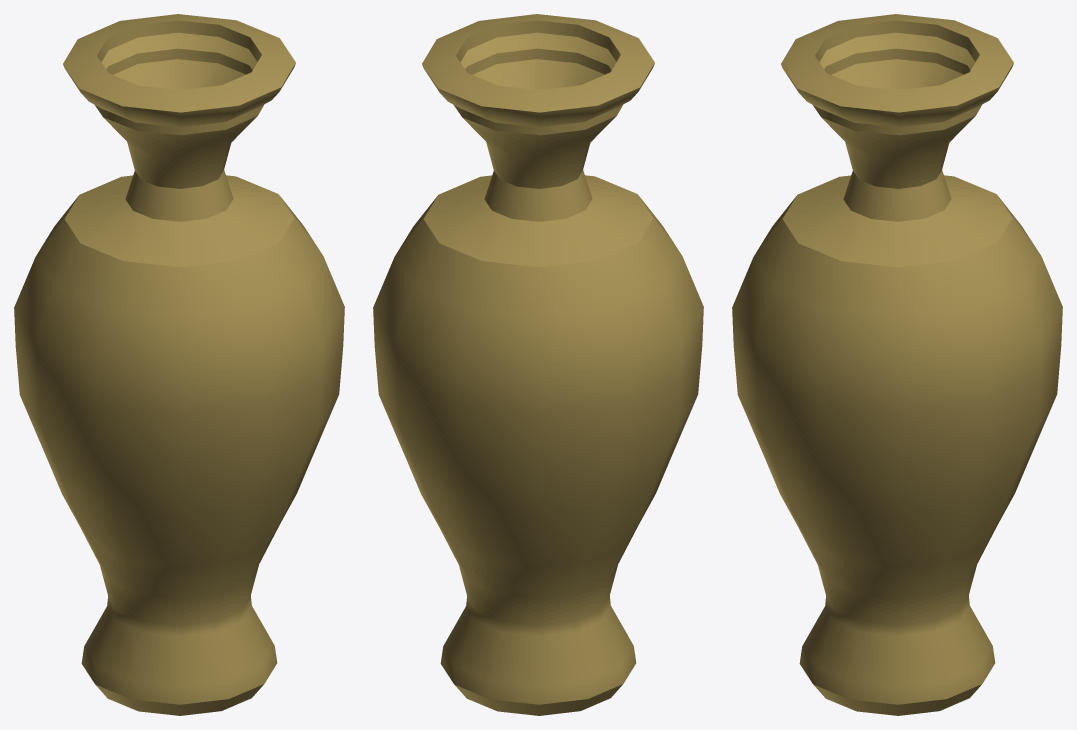
Rendered from vase.fbx.
The picture shows the model from 3 angles, left to right: view 1: azimuth 30°, elevation 25°; view 2: azimuth 150°, elevation 25°; view 3: azimuth 270°, elevation 25°; orthographic projection.
Visible parts, largest first — view 1: Cube; view 2: Cube; view 3: Cube.
Boxes of the visible parts, left/top/right/bottom form: Cube: left=14, top=14, right=344, bottom=715; Cube: left=373, top=14, right=703, bottom=715; Cube: left=732, top=14, right=1062, bottom=715.
Size of the model in its own units: 233 by 486 by 233.
